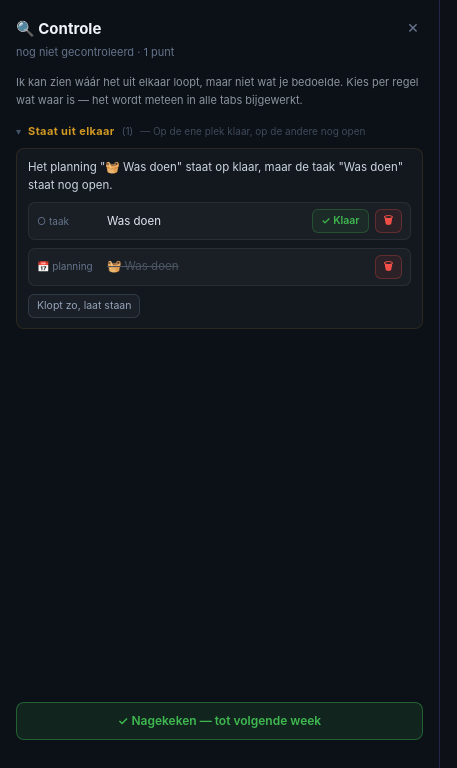
Test: ConsistencyPanel › laat een groep in- en uitklappen
Step 1. Click the text "Staat uit elkaar" → (71, 131), box [28,123,115,140]
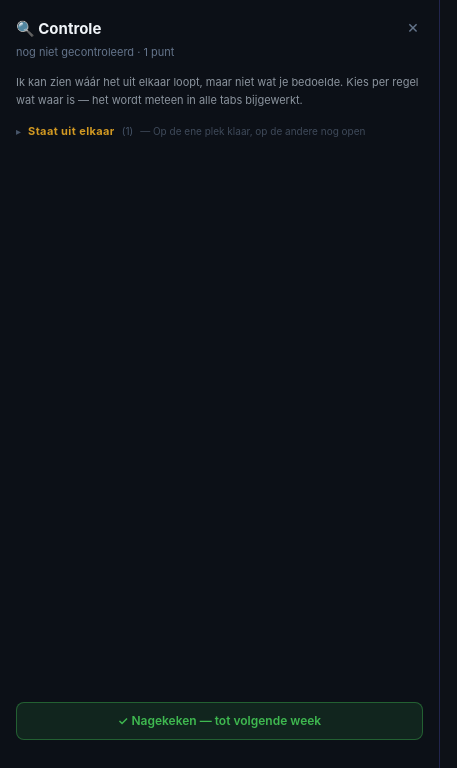
Result: the text "staat op klaar, maar de taak" is gone
